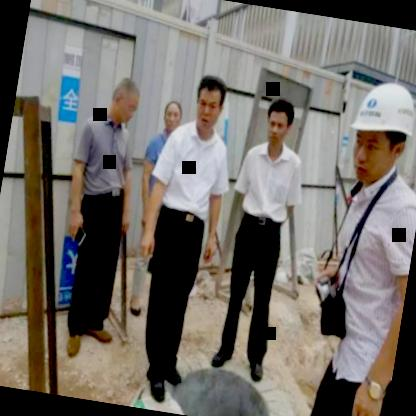head: (188, 66, 232, 134), (258, 92, 300, 152), (105, 73, 145, 127), (158, 95, 185, 134)
helmet: (340, 67, 416, 188)
